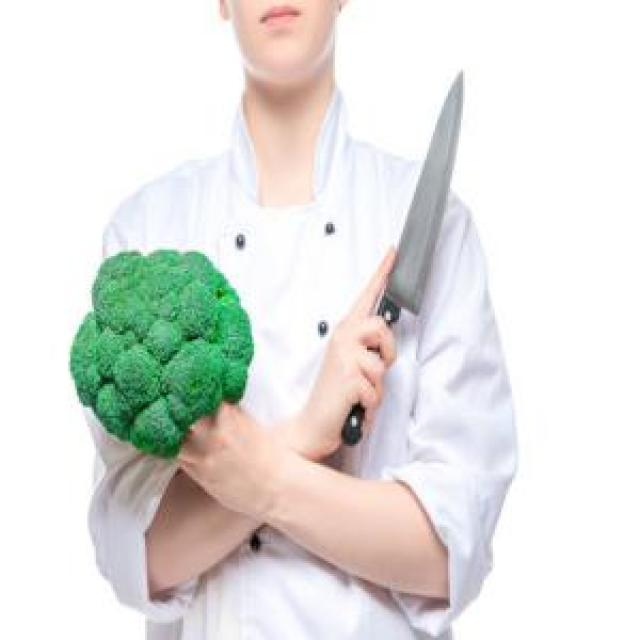knife: (342, 68, 468, 454)
